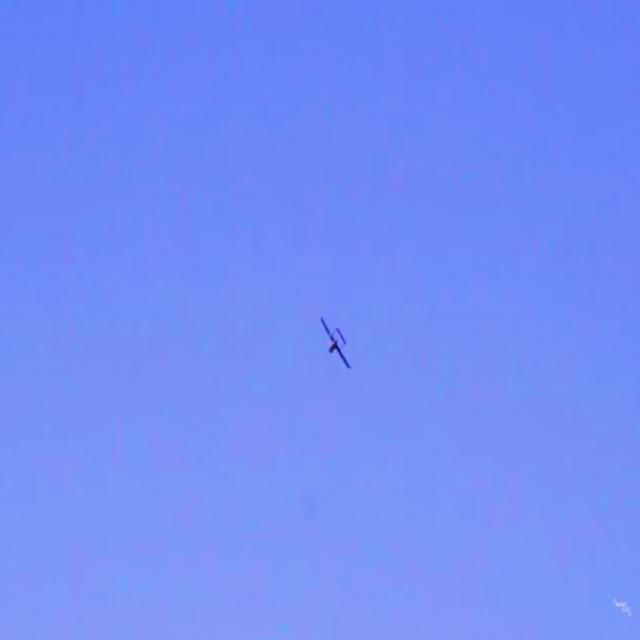iha: (318, 312, 356, 374), (611, 597, 631, 616)
